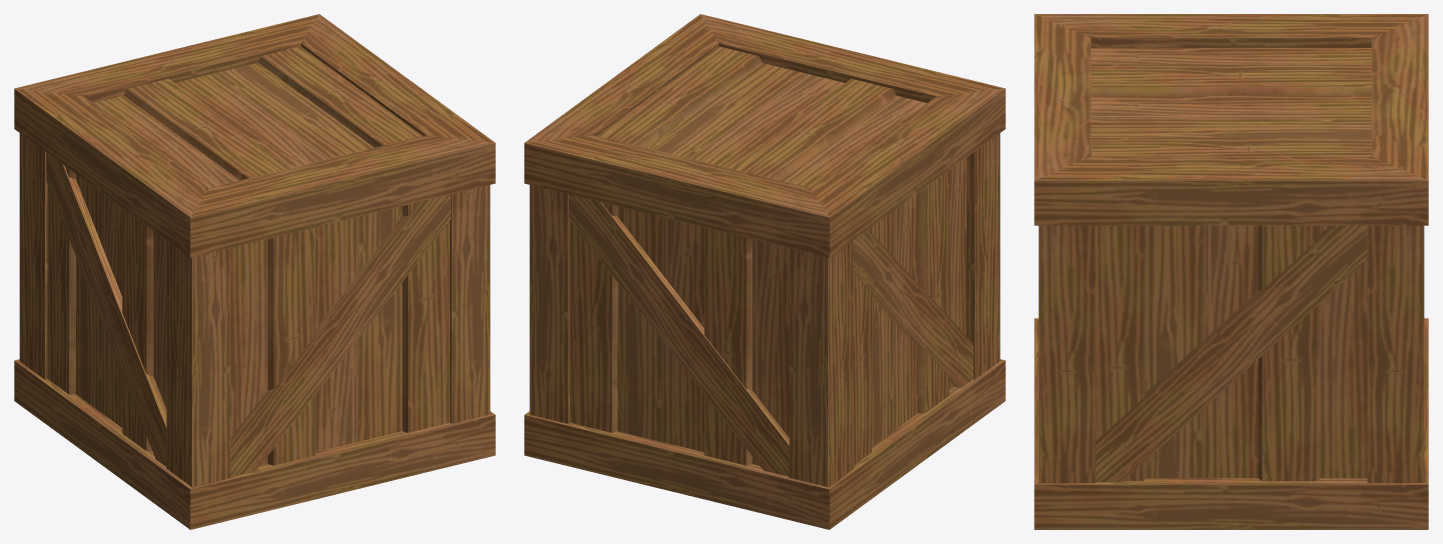
File: Prop_Crate.gltf
3 renders of one model, left to right at view 1: azimuth 30°, elevation 25°; view 2: azimuth 150°, elevation 25°; view 3: azimuth 270°, elevation 25°, orthographic. The views are drawn at different scales.
Parts seen in each view (by area): view 1: Prop_Crate; view 2: Prop_Crate; view 3: Prop_Crate.
Boxes of the visible parts, x1=… form: Prop_Crate: x1=14, y1=14, x2=495, y2=529; Prop_Crate: x1=524, y1=14, x2=1005, y2=529; Prop_Crate: x1=1034, y1=14, x2=1428, y2=529.
Bounding box in the file's own units: 1.08 × 1.06 × 1.08.
1 material, 1 textured.
